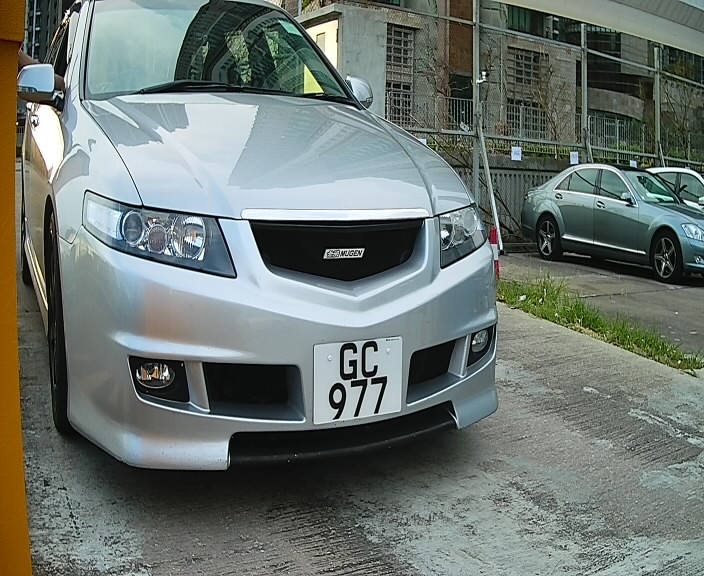Car: (33, 0, 524, 514)
License Plate: (297, 330, 421, 437)
